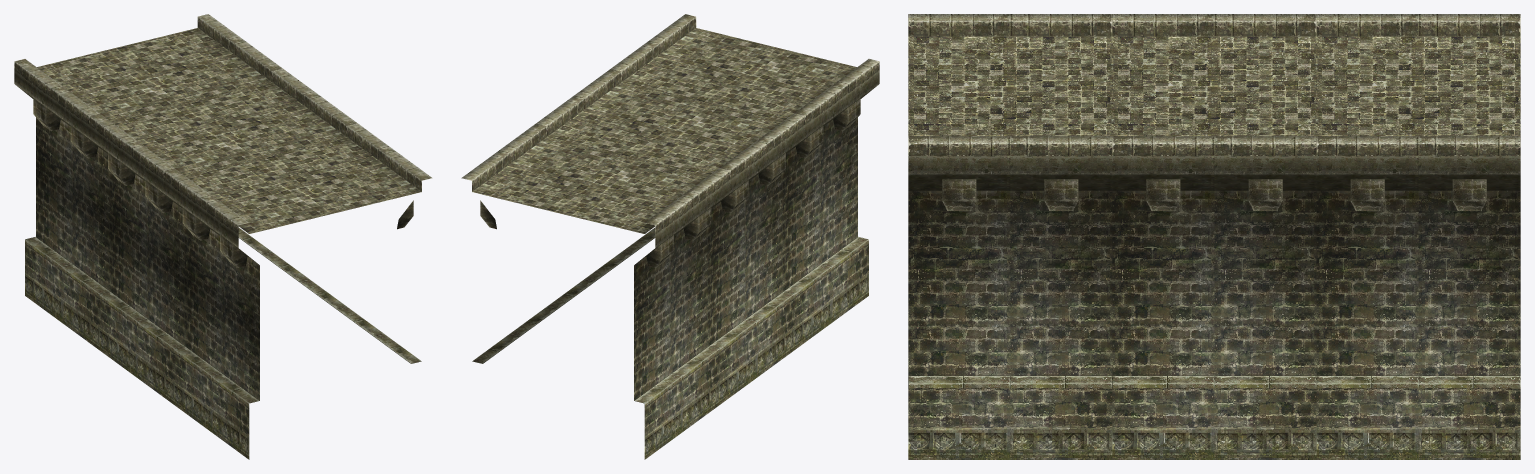
Rendered from OZ_30_kn_castle01H.glb.
The picture shows the model from 3 angles, left to right: view 1: azimuth 30°, elevation 25°; view 2: azimuth 150°, elevation 25°; view 3: azimuth 270°, elevation 25°; orthographic projection. The views are drawn at different scales.
Parts seen in each view (by area): view 1: OM_30_kn_castle01H; view 2: OM_30_kn_castle01H; view 3: OM_30_kn_castle01H.
Boxes of the visible parts, left/top/right/bottom form: OM_30_kn_castle01H: left=14, top=14, right=432, bottom=459; OM_30_kn_castle01H: left=461, top=14, right=879, bottom=459; OM_30_kn_castle01H: left=908, top=14, right=1520, bottom=459.
Bounding box in the file's own units: 9 × 10.5 × 18.
2 materials, 2 textured.
